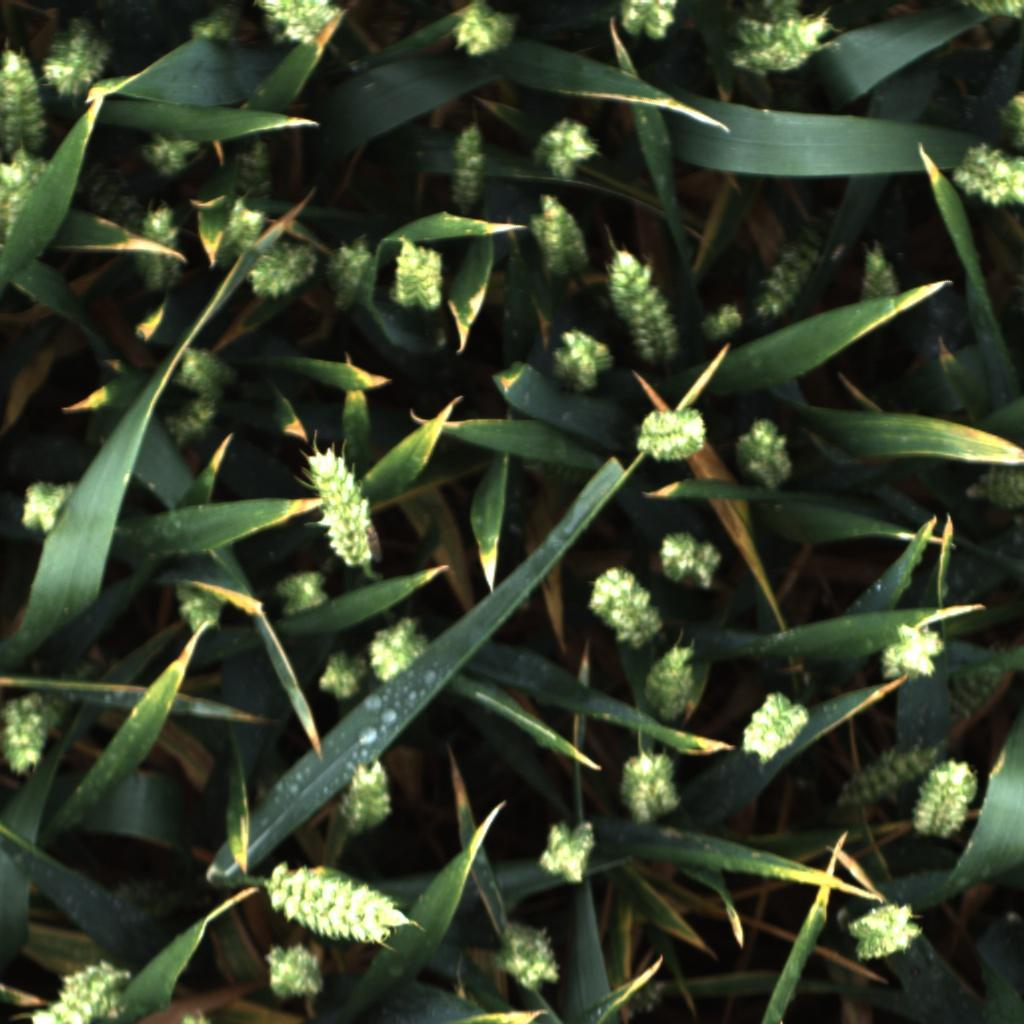0-0: (251, 861, 419, 946), (304, 438, 382, 569), (603, 244, 683, 366), (517, 191, 601, 283), (579, 562, 666, 649), (834, 739, 931, 815), (743, 239, 816, 335), (327, 755, 405, 840), (724, 13, 829, 76), (540, 319, 624, 397), (943, 138, 1024, 218), (840, 899, 928, 970), (39, 21, 116, 102), (612, 743, 682, 829), (729, 411, 794, 503), (65, 155, 146, 228), (163, 337, 246, 408), (125, 205, 190, 295), (489, 917, 562, 997), (445, 113, 496, 227), (2, 688, 65, 779), (642, 634, 704, 726), (54, 955, 137, 1023), (913, 758, 980, 842), (0, 45, 49, 159), (0, 150, 54, 252), (364, 616, 435, 693), (106, 871, 205, 926), (739, 688, 811, 762), (942, 655, 1007, 735), (533, 817, 603, 891), (632, 404, 711, 465), (226, 136, 287, 215), (321, 238, 380, 319), (532, 115, 605, 180), (260, 940, 334, 1004), (388, 238, 449, 315), (240, 240, 319, 299), (252, 0, 344, 47), (877, 620, 944, 683), (657, 527, 722, 591), (215, 201, 266, 278), (849, 236, 901, 310), (452, 0, 517, 59), (964, 456, 1024, 519), (170, 576, 232, 636), (313, 644, 371, 705), (137, 130, 203, 182), (19, 480, 79, 537), (696, 292, 749, 352), (181, 0, 247, 46), (159, 398, 218, 449), (273, 567, 330, 619), (616, 0, 680, 45), (731, 0, 804, 30), (620, 978, 668, 1014), (540, 458, 597, 488), (956, 0, 1023, 25), (994, 88, 1024, 141), (25, 999, 88, 1024), (178, 1012, 213, 1024)
